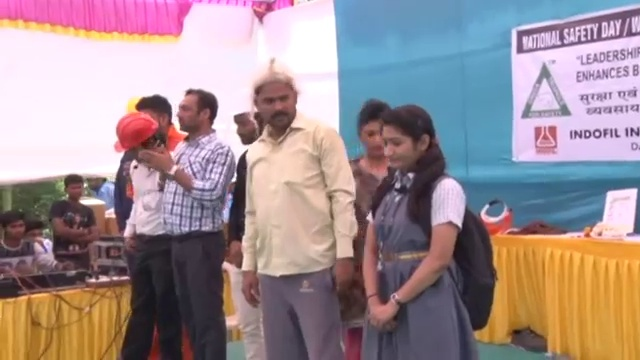helmet: (114, 111, 159, 154), (228, 86, 260, 119)
helmet_off: (380, 102, 437, 177), (248, 61, 302, 126), (358, 102, 397, 166), (173, 90, 219, 141), (136, 95, 174, 140), (0, 209, 28, 249), (60, 176, 82, 203), (25, 220, 46, 247), (86, 177, 107, 192)
helmet_on: (114, 110, 167, 165), (229, 89, 261, 151)
person: (352, 101, 495, 359), (241, 69, 358, 360), (141, 91, 230, 360), (111, 106, 189, 357), (227, 86, 264, 360), (0, 202, 77, 278), (349, 101, 398, 216), (46, 176, 95, 271), (86, 177, 116, 209)
